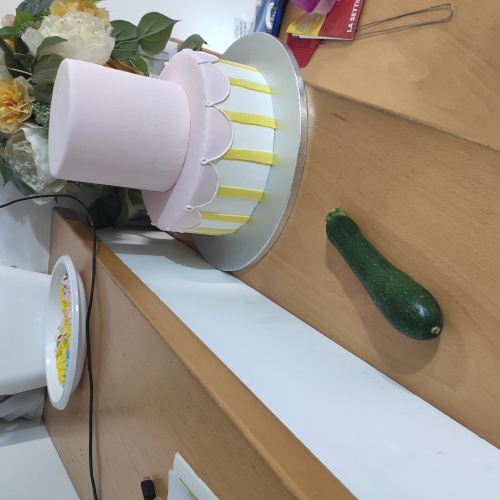zucchine: (325, 208, 451, 358)
